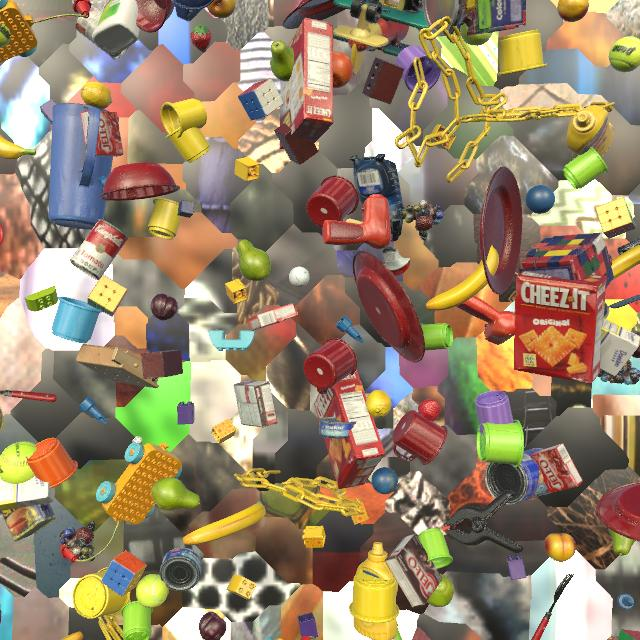ycb_002_master_chef_can: (485, 448, 550, 505)
ycb_003_cracker_box: (514, 271, 607, 383), (314, 369, 385, 489), (280, 18, 333, 149)
ycb_004_sugar_box: (600, 318, 640, 376), (0, 476, 55, 511)
ycb_005_tomato_soup_can: (70, 219, 128, 280), (75, 4, 128, 59)
ycb_006_mustard_bottle: (354, 542, 398, 640), (566, 105, 614, 159), (0, 408, 4, 431)
ycb_007_tuna_fish_can: (159, 547, 202, 591), (319, 417, 357, 438)
ycb_008_pudding_box: (384, 533, 443, 607), (233, 381, 278, 427)
ycb_009_gelatin_box: (530, 443, 583, 493), (81, 110, 124, 157), (247, 303, 298, 331)
ycb_010_potted_meat_can: (1, 503, 56, 542)
ycb_011_banana: (426, 245, 499, 310), (183, 501, 266, 545), (611, 245, 640, 280), (0, 135, 36, 159), (61, 631, 83, 640)
ycb_012_strawberry: (190, 24, 212, 53), (418, 399, 441, 421)
ycb_014_lemon: (81, 82, 112, 109), (366, 390, 392, 418)
ycb_015_peach: (544, 533, 576, 562), (557, 0, 589, 22), (207, 0, 236, 18)
ycb_016_pear: (151, 477, 200, 510), (237, 240, 271, 281), (608, 512, 638, 556), (270, 40, 294, 82), (427, 574, 454, 607)
ycb_017_orange: (333, 52, 353, 88)
ycb_018_plum: (199, 612, 227, 640), (151, 294, 178, 320), (632, 332, 640, 358), (584, 106, 588, 108)
